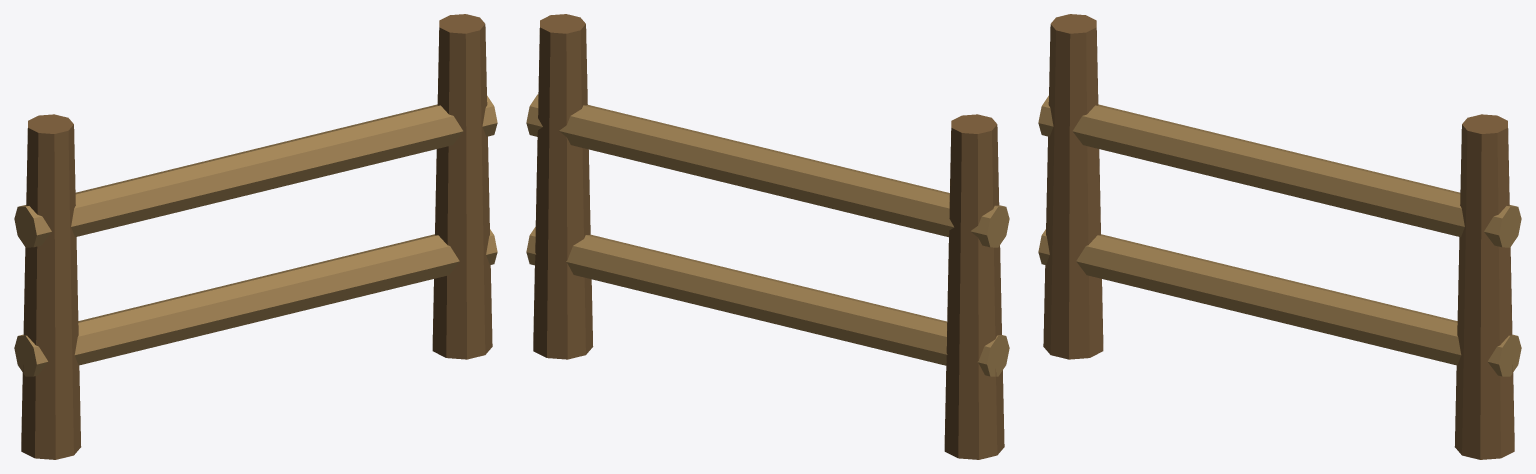
Rendered from BP_Fence_Rail.fbx.
The picture shows the model from 3 angles, left to right: view 1: azimuth 30°, elevation 25°; view 2: azimuth 150°, elevation 25°; view 3: azimuth 330°, elevation 25°; orthographic projection.
Parts seen in each view (by area): view 1: BP_Fence_Rail; view 2: BP_Fence_Rail; view 3: BP_Fence_Rail.
Boxes of the visible parts, x1=… form: BP_Fence_Rail: x1=14, y1=14, x2=497, y2=459; BP_Fence_Rail: x1=526, y1=14, x2=1009, y2=459; BP_Fence_Rail: x1=1038, y1=14, x2=1521, y2=459.
Bounding box in the file's own units: 226 × 150 × 25.22.
